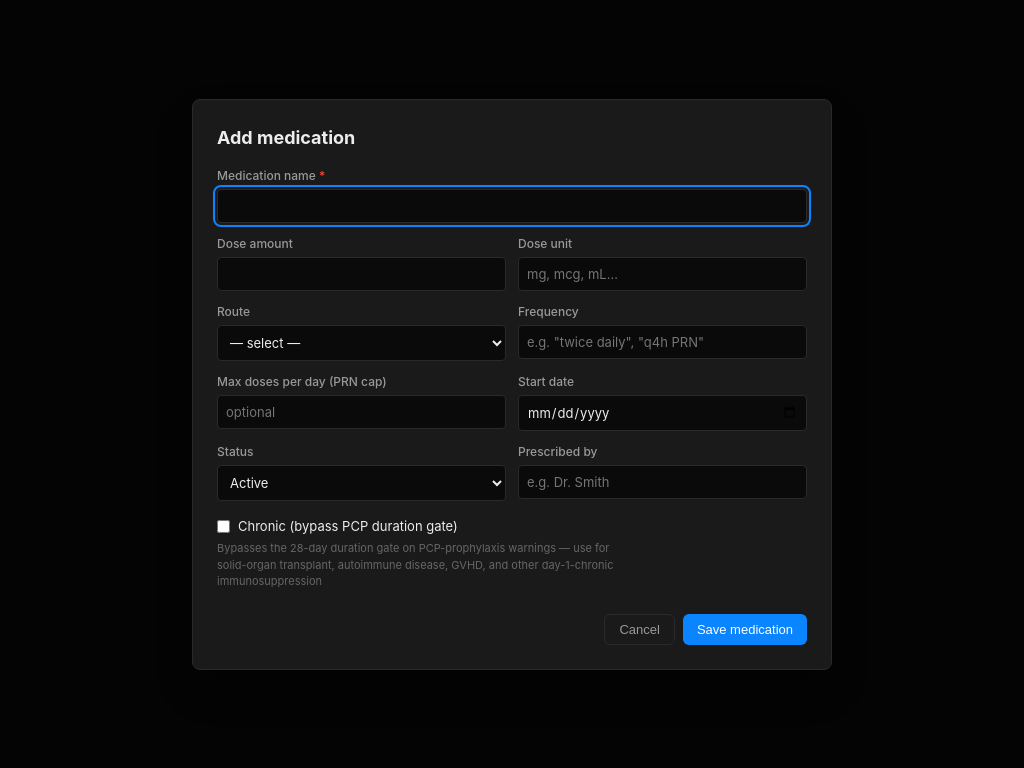
Scenario: PrescriptionForm (create mode) › shows an inline validation error when name is empty on submit
This screenshot has width=1024, height=768.
Step 1. Click the button "Save medication" → {"x": 745, "y": 629}, box [683,614,807,644]
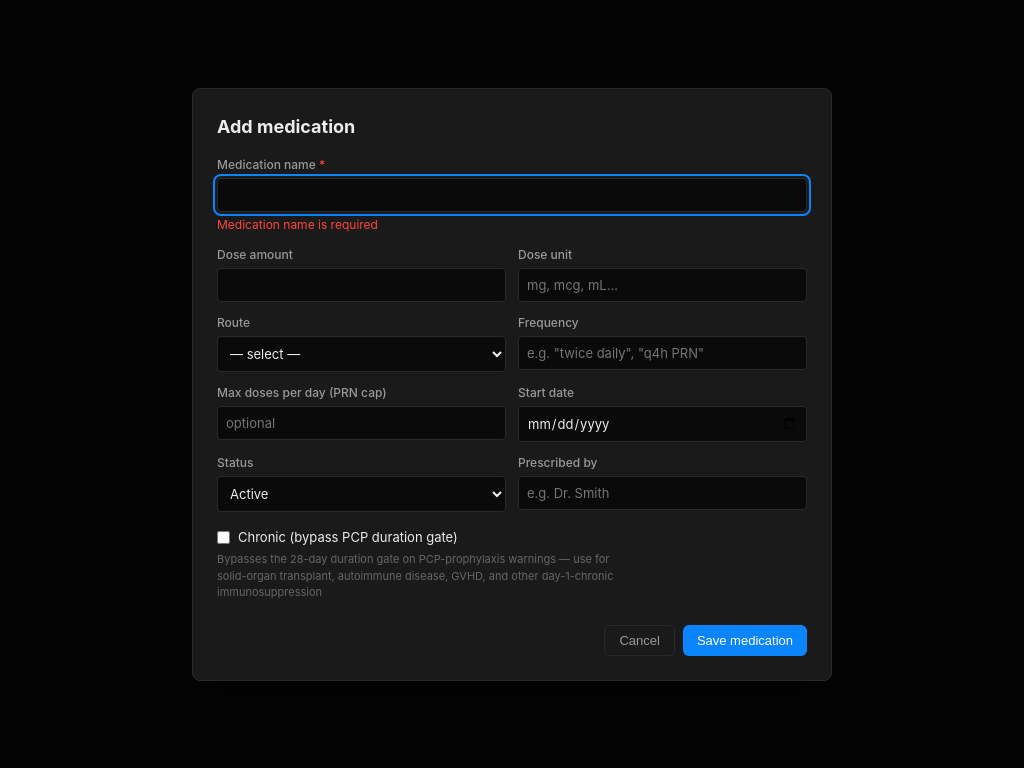
Expected: the text "Medication name is required" is shown, [217,216,378,232]
